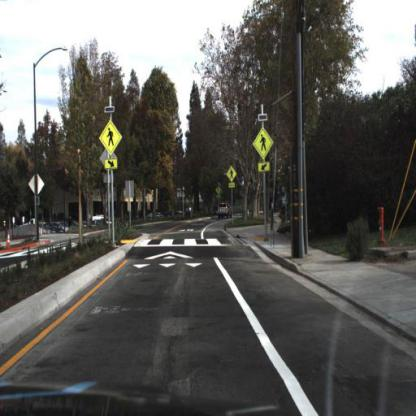car: (218, 202, 233, 220)
pedestrian: (68, 214, 74, 237)
